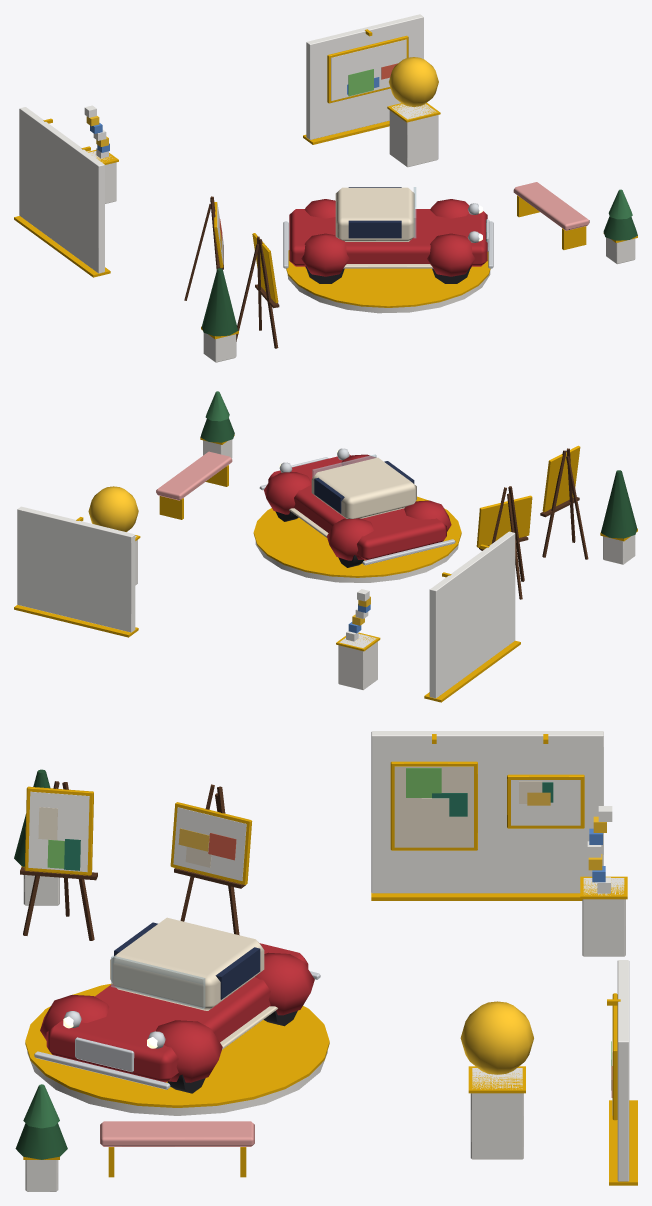
Rendered from einrichtung_kunstsalon.glb.
3 views of the same model, one above another, from view 1: azimuth 30°, elevation 25°; view 2: azimuth 150°, elevation 25°; view 3: azimuth 270°, elevation 25° (orthographic). The views are drawn at different scales.
Visible parts, largest first — view 1: einrichtung_kunstsalon; view 2: einrichtung_kunstsalon; view 3: einrichtung_kunstsalon.
Boxes of the visible parts, x1=… form: einrichtung_kunstsalon: x1=14, y1=14, x2=637, y2=362; einrichtung_kunstsalon: x1=14, y1=391, x2=637, y2=702; einrichtung_kunstsalon: x1=14, y1=731, x2=637, y2=1191.
Bounding box in the file's own units: 7.56 × 1.85 × 6.44.
